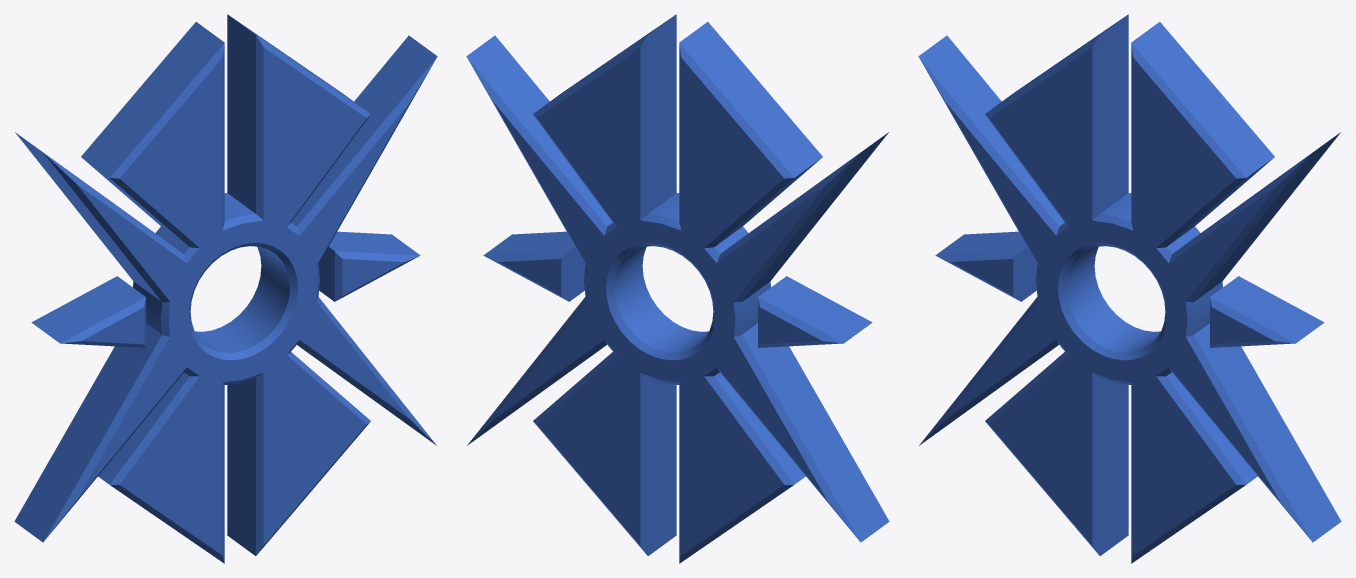
The model's file is ui_faction_neutral.fbx.
The picture shows the model from 3 angles, left to right: view 1: azimuth 30°, elevation 25°; view 2: azimuth 150°, elevation 25°; view 3: azimuth 330°, elevation 25°; orthographic projection.
Parts seen in each view (by area): view 1: mesh_node; view 2: mesh_node; view 3: mesh_node.
Boxes of the visible parts, x1,y1,x2,y2 form: mesh_node: [14, 14, 437, 563]; mesh_node: [466, 14, 889, 563]; mesh_node: [918, 14, 1341, 563].
Size of the model in its own units: 1.58 by 2 by 0.24.
Materials: 1 (1 with a texture image).
